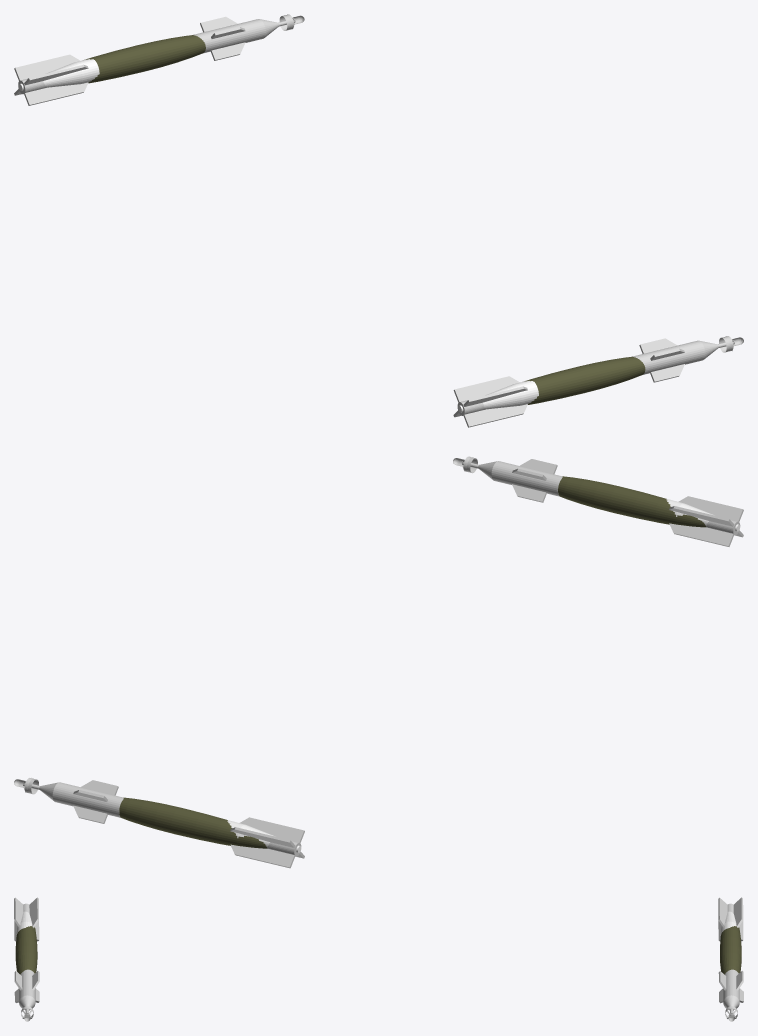
Rendered from f18fgbu1216.glb.
3 renders of one model, top to bottom at view 1: azimuth 30°, elevation 25°; view 2: azimuth 150°, elevation 25°; view 3: azimuth 270°, elevation 25°, orthographic. The views are drawn at different scales.
Visible parts, largest first — view 1: 円柱.006, 円柱.007; view 2: 円柱.006, 円柱.007; view 3: 円柱.006, 円柱.007.
Part boxes in pixels (x1,y1,x2,y2): 円柱.006: (453,336,743,427); 円柱.007: (14,14,304,105); 円柱.006: (453,456,743,546); 円柱.007: (14,778,304,868); 円柱.006: (14,897,39,1021); 円柱.007: (718,897,743,1021).
Size of the model in its own units: 3.69 by 0.3609 by 10.22.
2 materials, 1 textured.
